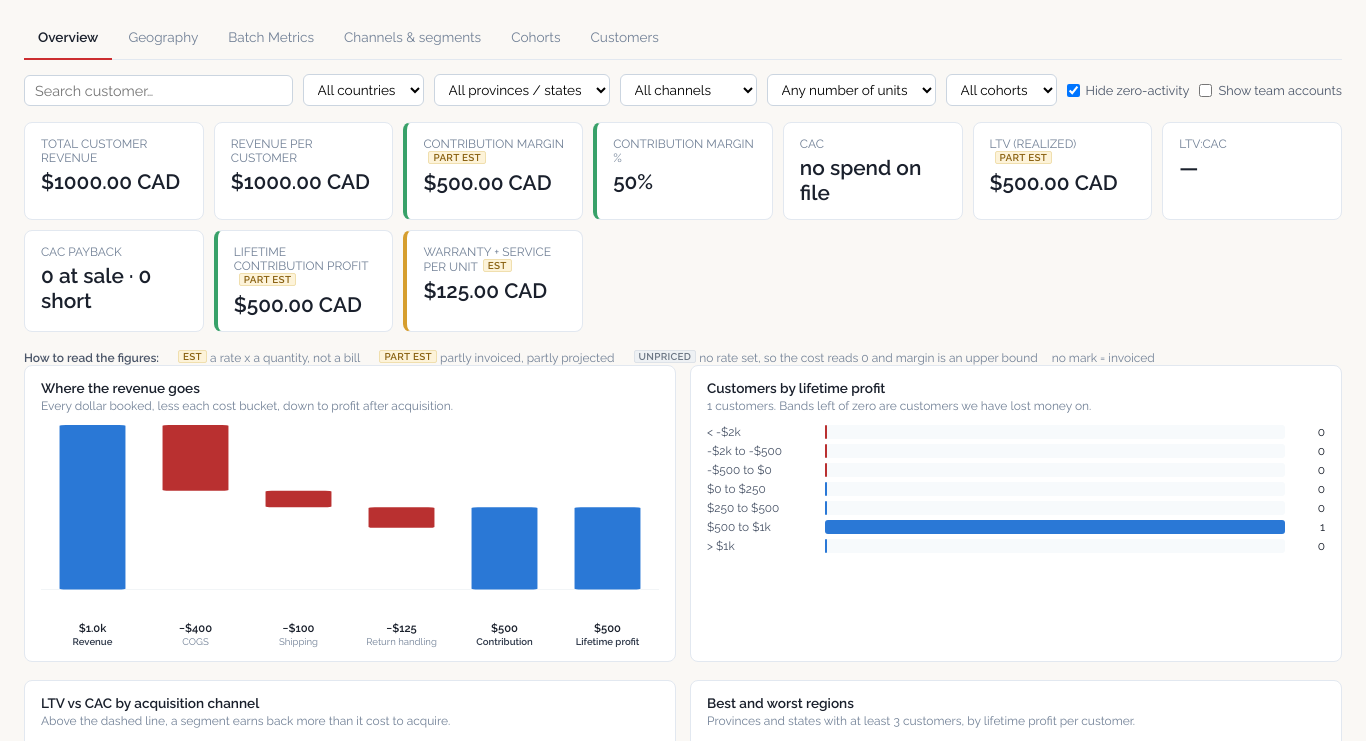
Scenario: ProfitabilityTab — diagnosis-call support cost › flags return handling whose freight is not on file
Click the tab "Customers": (625, 38) left=576, top=16, right=673, bottom=60
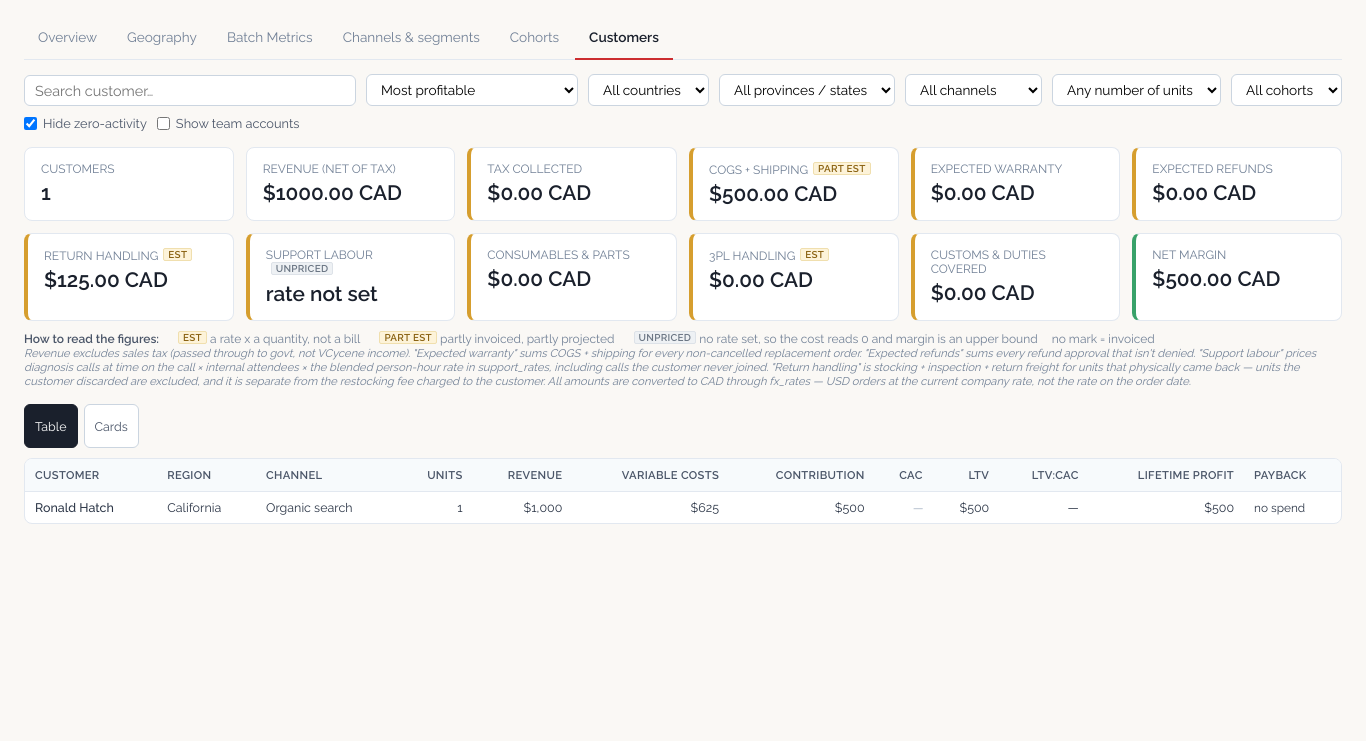
Click the button "Cards": (111, 426) left=84, top=404, right=139, bottom=448
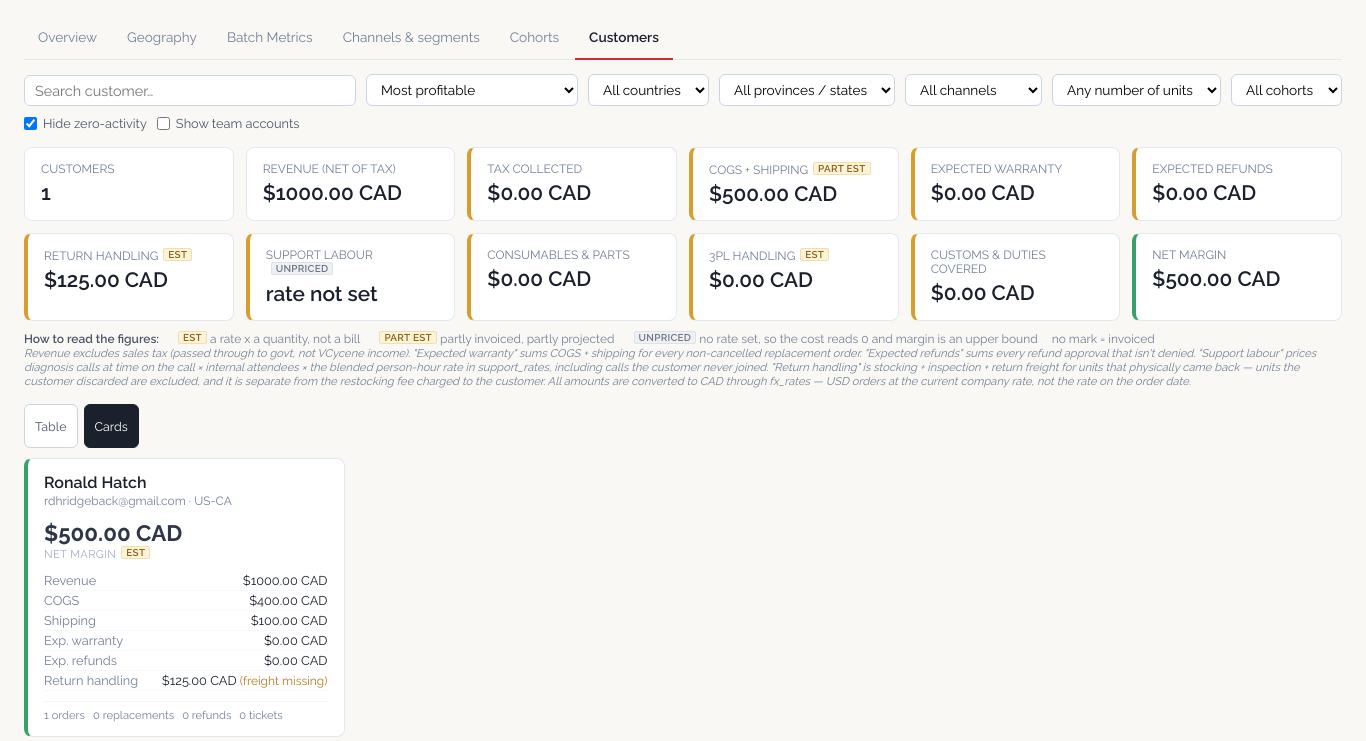
Now the text "(freight missing)" is shown, box left=237, top=674, right=328, bottom=688
